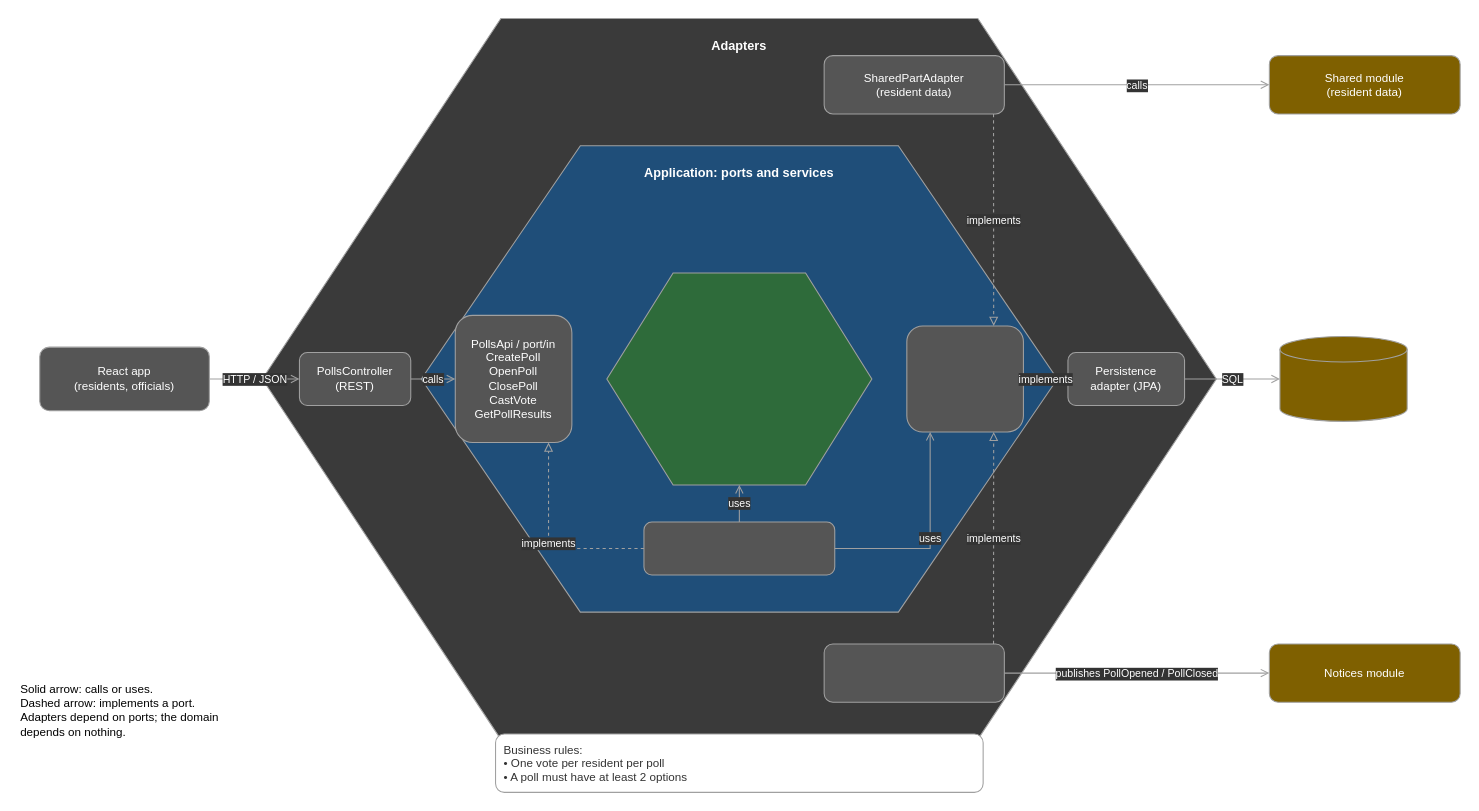
This 1479x811 diagram has some shape labels left out. Here are the shapes that lost their labels. From the top down, the centre of each, then its label:
[739,378]: Domain Poll PollOption Vote
[964,378]: port/out Polls ResidentDirectory EventPublisher
[1343,378]: PostgreSQL
[739,548]: PollsService (implements the use cases)
[913,672]: NoticesAdapter (poll events)
